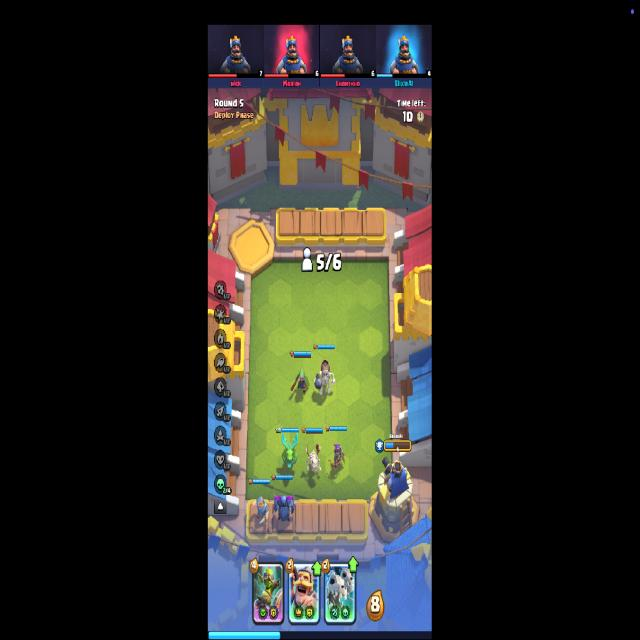archer_queen: (329, 443, 346, 473)
baby_dragon: (281, 432, 298, 468)
bandit: (290, 368, 311, 395)
card_goblin_machine: (252, 560, 284, 625)
card_knight: (288, 560, 320, 626)
card_skeleton_dragon: (324, 560, 356, 626)
giant_skeleton: (316, 361, 335, 395)
knight: (250, 498, 268, 524)
pekka: (271, 493, 295, 525)
skeleton_dragon: (305, 441, 322, 475)
